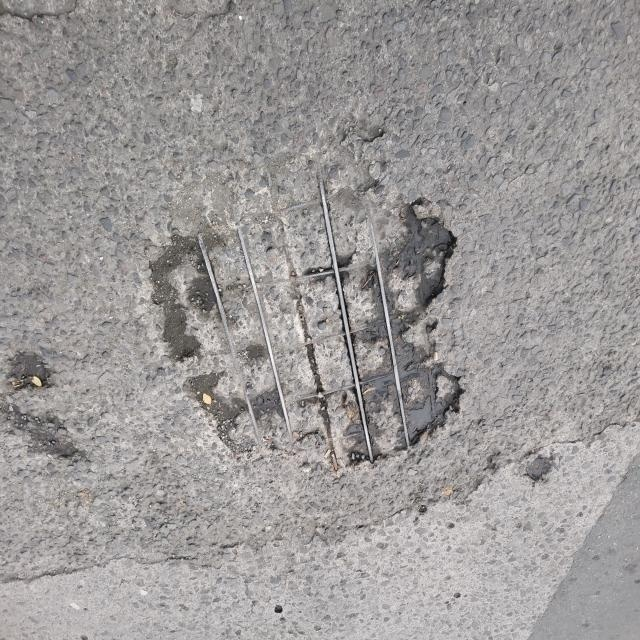pothole: (132, 202, 486, 482)
